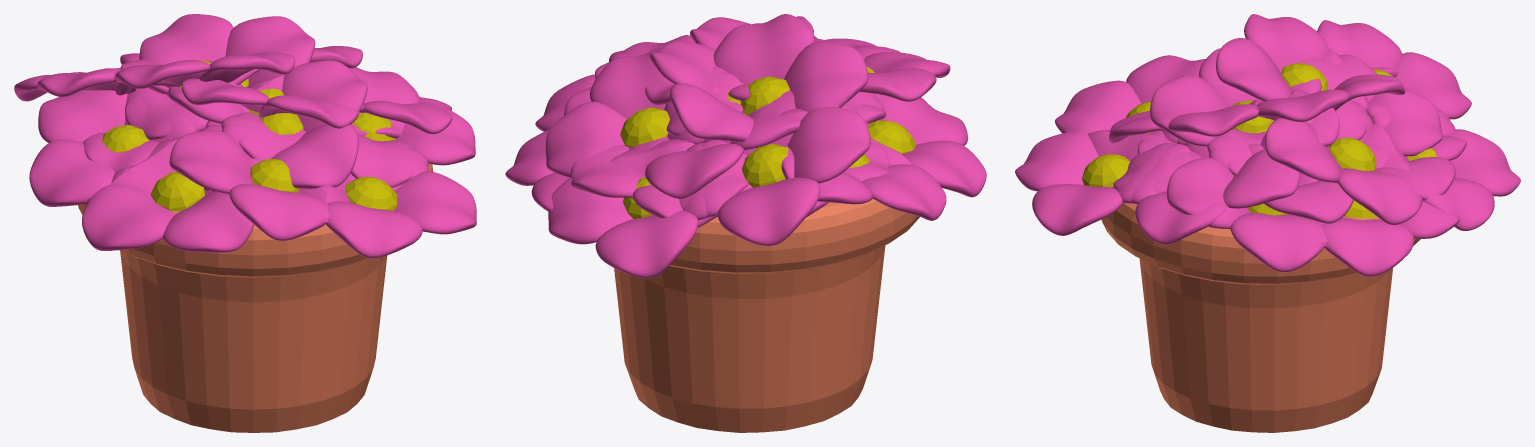
Rendered from planta3.fbx.
3 views of the same model, side by side, from view 1: azimuth 30°, elevation 25°; view 2: azimuth 150°, elevation 25°; view 3: azimuth 270°, elevation 25° (orthographic). The views are drawn at different scales.
Parts seen in each view (by area): view 1: Sphere.005; view 2: Sphere.005; view 3: Sphere.005.
Part boxes in pixels (box(x1,y1,x2,y2)): Sphere.005: box(14, 14, 476, 432); Sphere.005: box(505, 14, 986, 432); Sphere.005: box(1015, 14, 1520, 432).
Size of the model in its own units: 194 by 168 by 226.
